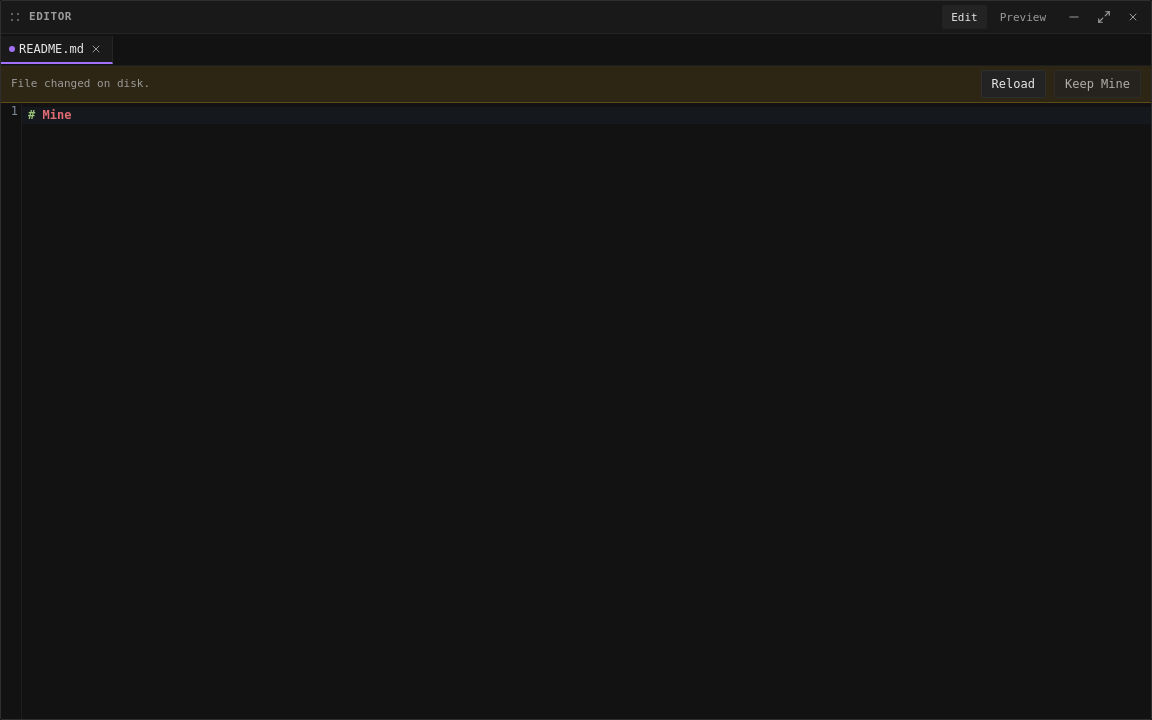
it: Markdown with real CodeMirror › keeps dirty/external-change handling and close confirmation in preview
The width and height of the screenshot is (1152, 720).
Click the button "Preview". click: [1023, 17]
box: 991,5 -> 1055,29
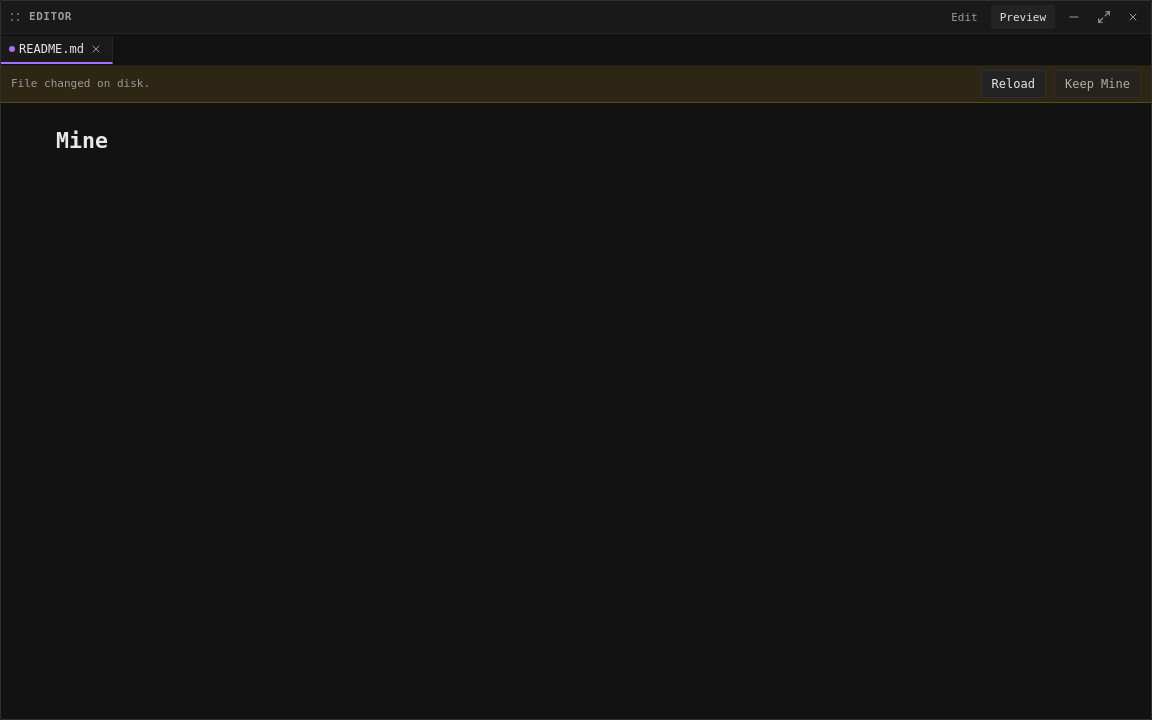
Expected: the heading "Mine" is shown, 56,128 -> 108,153
Expected: the text "File changed on disk." is shown, 11,77 -> 150,90
Click the button "Keep Mine". click: [1098, 84]
box: 1054,70 -> 1141,98
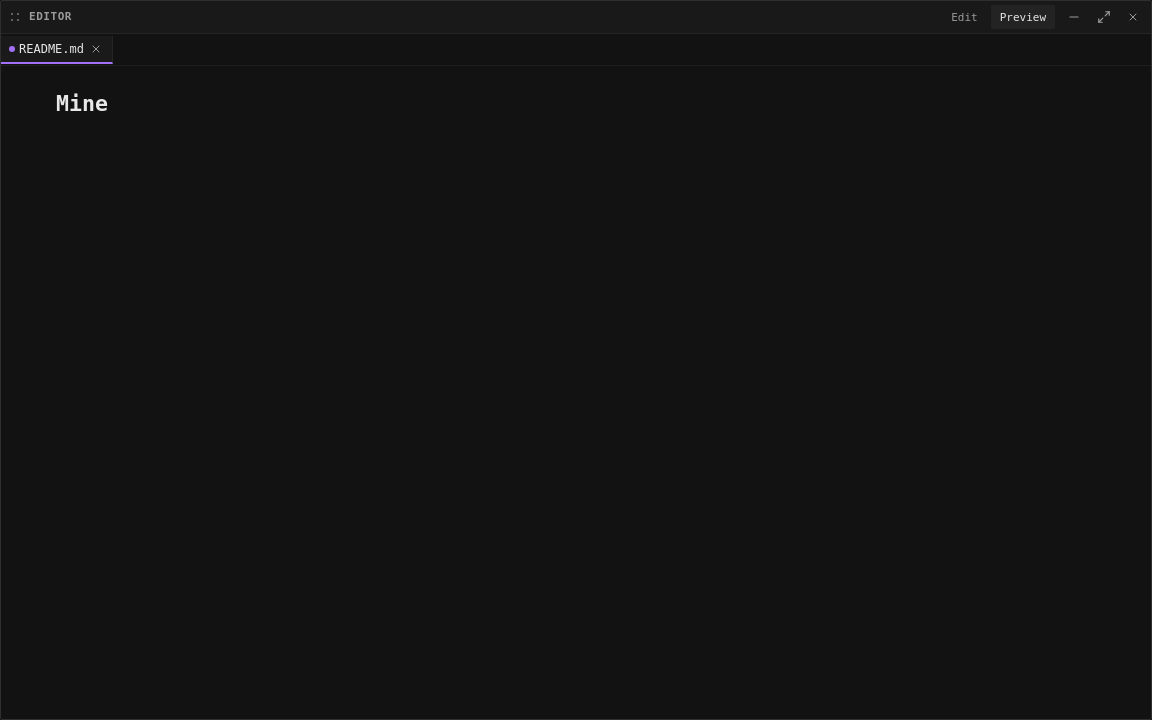
Click the button named "Close editor". click: [1133, 17]
box: 1123,7 -> 1143,27
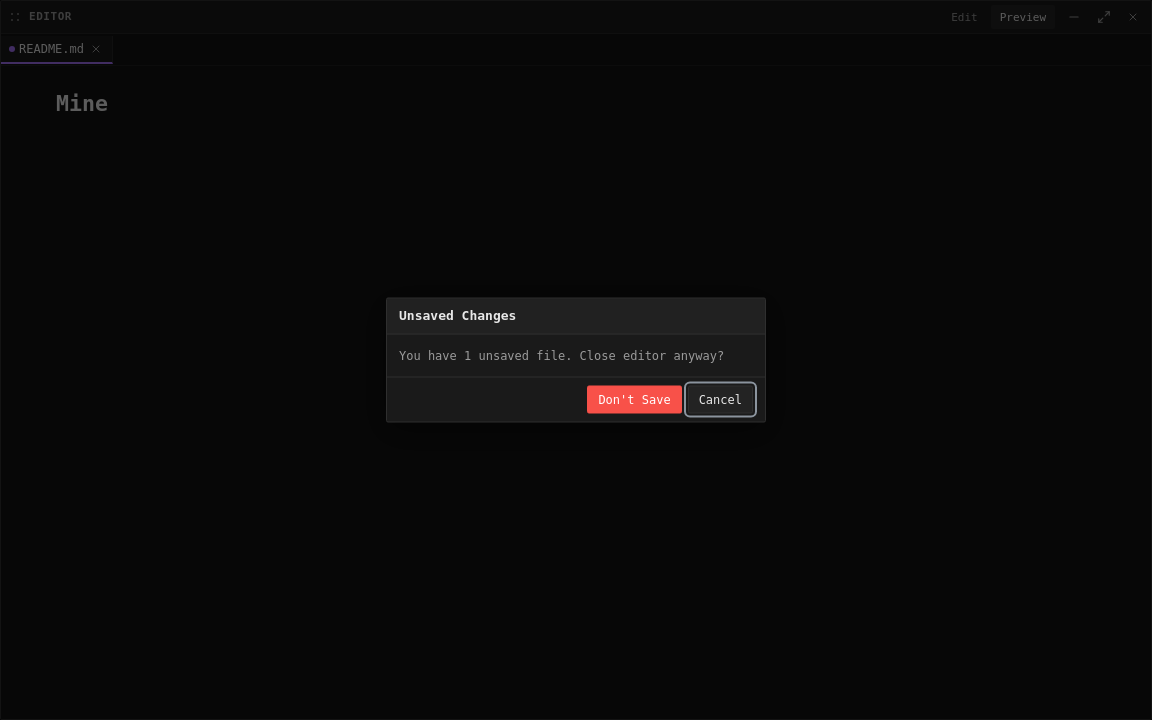
Expected: the dialog shows "1 unsaved file", 399,348 -> 724,362
